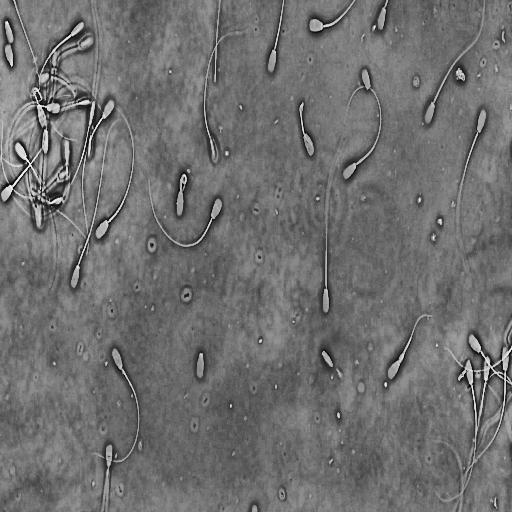coiled-tail: (299, 102, 305, 135), (33, 87, 42, 104), (179, 173, 187, 192)
dirt-particles: (454, 64, 467, 84)
loose-head: (195, 349, 206, 384), (319, 347, 335, 369), (360, 65, 373, 92), (3, 18, 15, 46), (3, 42, 14, 70)
loose-tail: (12, 0, 42, 98), (442, 343, 512, 374), (213, 0, 224, 88)
normal: (68, 117, 125, 293), (423, 0, 487, 128), (200, 22, 254, 165), (13, 139, 61, 299), (432, 356, 479, 504), (462, 342, 511, 479), (0, 109, 68, 206), (147, 170, 224, 252), (94, 92, 136, 241), (453, 353, 492, 512), (455, 105, 488, 290), (91, 344, 141, 466), (81, 93, 117, 261), (5, 101, 61, 204), (54, 96, 98, 212), (321, 135, 345, 317), (340, 83, 384, 182), (35, 17, 86, 93), (385, 308, 433, 383), (50, 32, 97, 107), (467, 330, 512, 387), (308, 0, 359, 37), (266, 0, 287, 76), (298, 97, 317, 160), (102, 440, 115, 512), (173, 169, 189, 221), (33, 87, 48, 129)
proximal-droplet: (398, 352, 405, 364)
